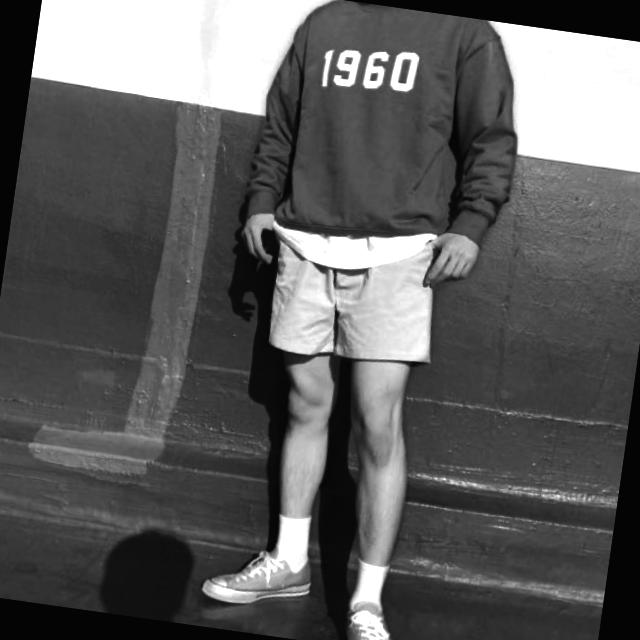mtm: (239, 0, 533, 265)
shortpants: (268, 218, 453, 377)
